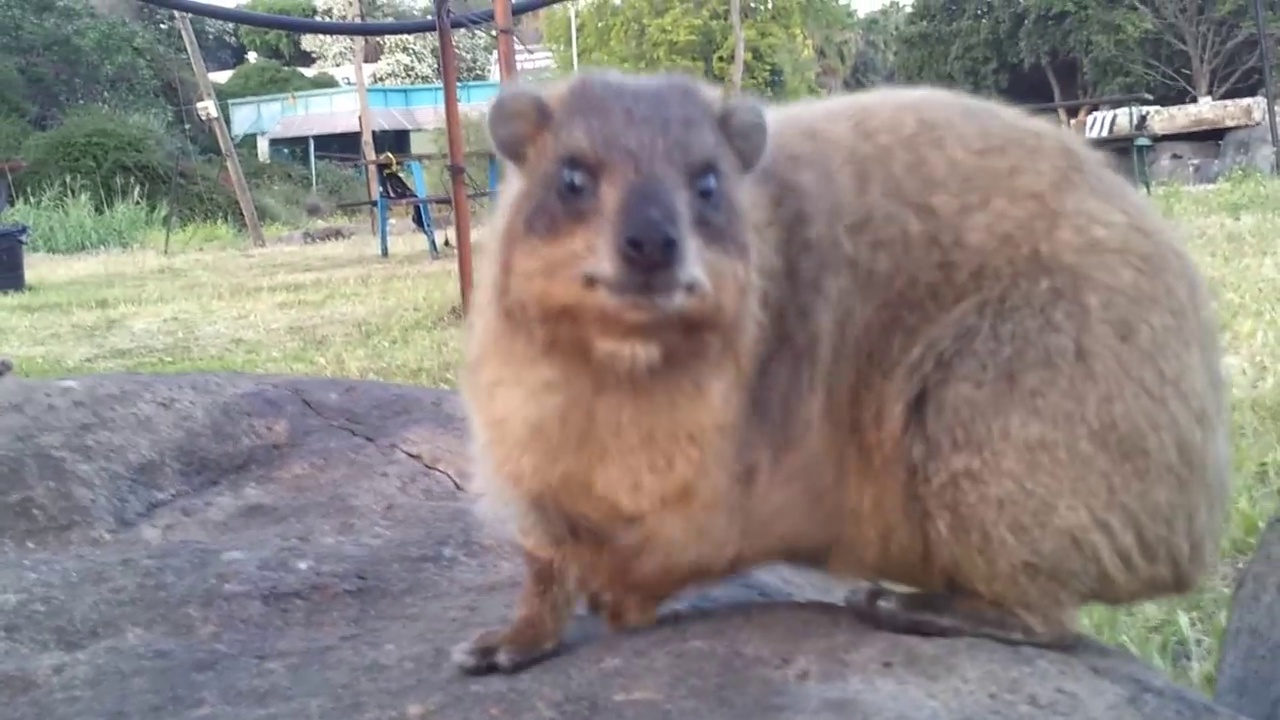Rock Hyrex: (448, 69, 1231, 677)
